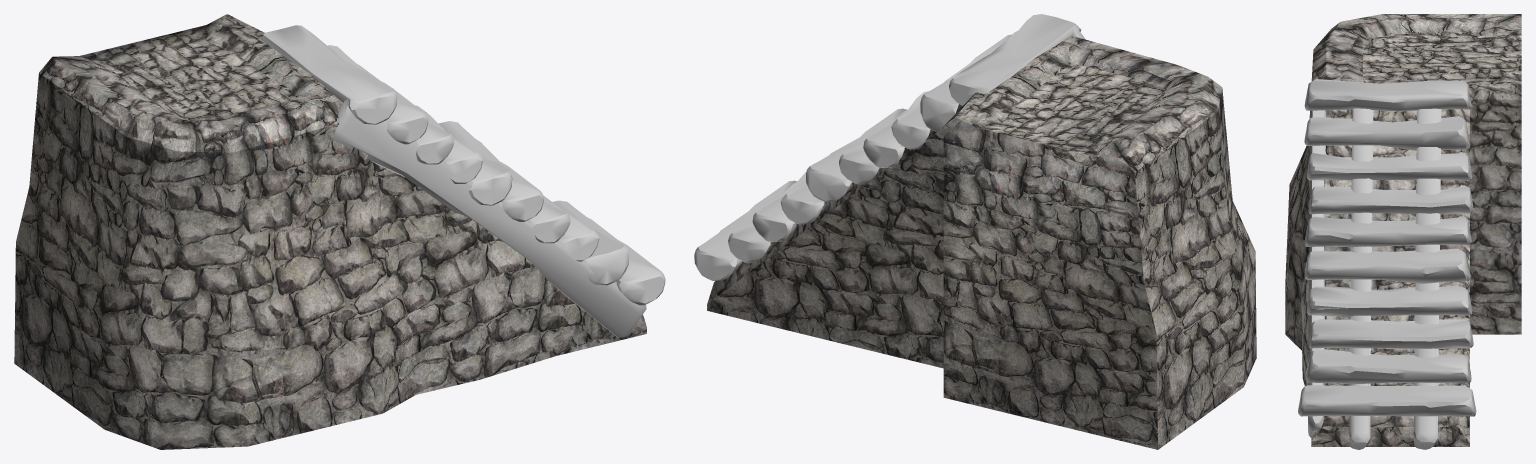
The model's file is StoneRamp_1b.fbx.
3 views of the same model, side by side, from view 1: azimuth 30°, elevation 25°; view 2: azimuth 150°, elevation 25°; view 3: azimuth 270°, elevation 25° (orthographic). The views are drawn at different scales.
Parts seen in each view (by area): view 1: Stone, Wood; view 2: Stone, Wood; view 3: Wood, Stone.
Part boxes in pixels (x1,y1,x2,y2): Stone: [14, 14, 646, 449]; Wood: [261, 25, 665, 338]; Stone: [707, 35, 1256, 449]; Wood: [694, 14, 1085, 281]; Wood: [1298, 79, 1476, 449]; Stone: [1285, 14, 1521, 446].
Size of the model in its own units: 1015 by 574 by 484.
